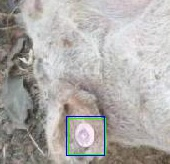text: (68, 118, 105, 154)
